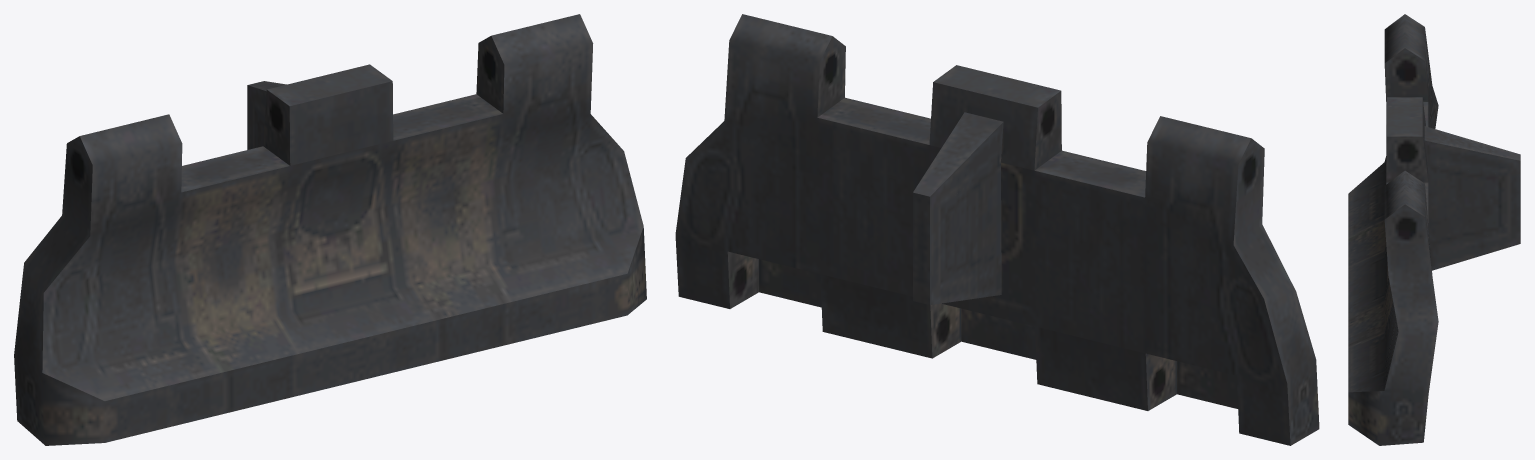
The picture shows the model from 3 angles, left to right: view 1: azimuth 30°, elevation 25°; view 2: azimuth 150°, elevation 25°; view 3: azimuth 270°, elevation 25°; orthographic projection. The views are drawn at different scales.
Parts seen in each view (by area): view 1: set_0_group_0; view 2: set_0_group_0; view 3: set_0_group_0.
Part boxes in pixels (<box>): set_0_group_0: <box>14,14,646,445</box>; set_0_group_0: <box>675,14,1319,445</box>; set_0_group_0: <box>1348,14,1520,445</box>.
Bounding box in the file's own units: 0.3799 × 0.1724 × 0.1208.
1 material, 1 textured.
